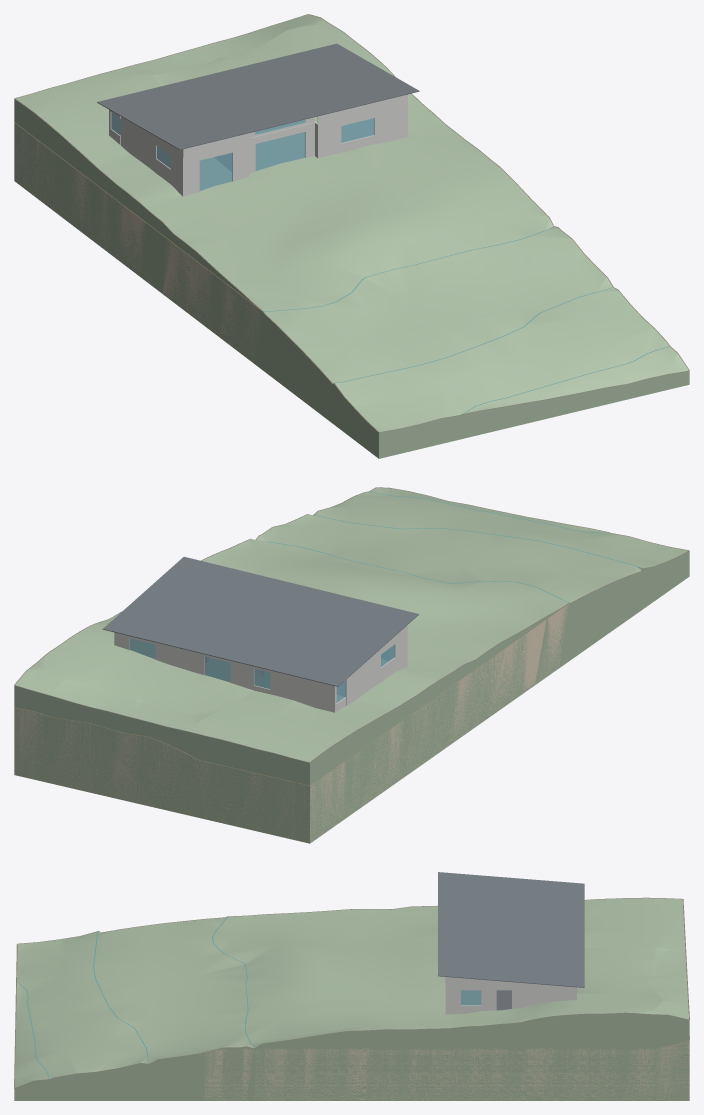
The picture shows the model from 3 angles, top to bottom: view 1: azimuth 30°, elevation 25°; view 2: azimuth 150°, elevation 25°; view 3: azimuth 270°, elevation 25°; orthographic projection. The views are drawn at different scales.
Visible parts, largest first — view 1: FD-L12-GND-EXISTING, GF-L12-ROOF-01, FD-L12-GND-FINISHED-CANDIDATE, FD-L12-GND-EXISTING-BOUNDARY-LINE, GF-L12-OPENING-FRONT-LIVING, GF-L12-WALL-P0002, GF-L12-WALL-P0025, GF-L12-OPENING-FRONT-BED1, FD-L12-GND-EXISTING-CONTOUR-LINE, GF-L12-WALL-P0024, GF-L12-UPPER-FRONT-R; view 2: FD-L12-GND-EXISTING, GF-L12-ROOF-01, FD-L12-GND-FINISHED-CANDIDATE, GF-L12-WALL-P0017, FD-L12-GND-EXISTING-BOUNDARY-LINE, GF-L12-WALL-P0002, GF-L12-WALL-P0019, FD-L12-GND-EXISTING-CONTOUR-LINE, GF-L12-WALL-P0018; view 3: FD-L12-GND-EXISTING, FD-L12-GND-FINISHED-CANDIDATE, GF-L12-ROOF-01, FD-L12-GND-EXISTING-BOUNDARY-LINE, GF-L12-WALL-P0008, FD-L12-GND-EXISTING-CONTOUR-LINE, GF-L12-WALL-P0006, GF-L12-WALL-P0007, __delivery_mesh_242.
Boxes of the visible parts, bbox=[...] form: FD-L12-GND-EXISTING: bbox=[14, 14, 689, 458]; GF-L12-ROOF-01: bbox=[97, 43, 419, 149]; FD-L12-GND-FINISHED-CANDIDATE: bbox=[14, 123, 263, 361]; FD-L12-GND-EXISTING-BOUNDARY-LINE: bbox=[14, 14, 689, 432]; GF-L12-OPENING-FRONT-LIVING: bbox=[255, 132, 305, 170]; GF-L12-WALL-P0002: bbox=[121, 116, 156, 172]; GF-L12-WALL-P0025: bbox=[374, 103, 407, 143]; GF-L12-OPENING-FRONT-BED1: bbox=[199, 152, 232, 190]; FD-L12-GND-EXISTING-CONTOUR-LINE: bbox=[264, 226, 669, 413]; GF-L12-WALL-P0024: bbox=[317, 119, 341, 158]; GF-L12-UPPER-FRONT-R: bbox=[317, 94, 407, 124]; FD-L12-GND-EXISTING: bbox=[14, 487, 689, 843]; GF-L12-ROOF-01: bbox=[102, 556, 418, 686]; FD-L12-GND-FINISHED-CANDIDATE: bbox=[14, 604, 568, 842]; GF-L12-WALL-P0017: bbox=[270, 670, 334, 712]; FD-L12-GND-EXISTING-BOUNDARY-LINE: bbox=[14, 487, 689, 762]; GF-L12-WALL-P0002: bbox=[345, 649, 380, 705]; GF-L12-WALL-P0019: bbox=[155, 642, 204, 675]; FD-L12-GND-EXISTING-CONTOUR-LINE: bbox=[265, 491, 642, 602]; GF-L12-WALL-P0018: bbox=[230, 661, 254, 690]; FD-L12-GND-EXISTING: bbox=[14, 898, 689, 1100]; FD-L12-GND-FINISHED-CANDIDATE: bbox=[204, 1041, 689, 1100]; GF-L12-ROOF-01: bbox=[438, 872, 584, 987]; FD-L12-GND-EXISTING-BOUNDARY-LINE: bbox=[14, 897, 689, 1088]; GF-L12-WALL-P0008: bbox=[512, 984, 576, 1008]; FD-L12-GND-EXISTING-CONTOUR-LINE: bbox=[17, 916, 253, 1079]; GF-L12-WALL-P0006: bbox=[445, 984, 460, 1014]; GF-L12-WALL-P0007: bbox=[481, 984, 496, 1011]; __delivery_mesh_242: bbox=[446, 977, 536, 984].
Size of the model in its own units: 18.6 by 7.25 by 39.68.
